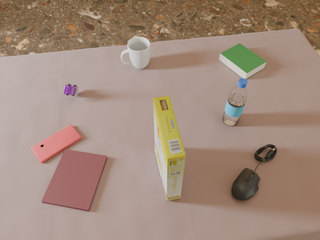book: (42, 149, 107, 211), (219, 43, 266, 79)
bottle: (223, 78, 247, 126)
box: (153, 96, 186, 200)
cup: (121, 37, 150, 69)
mouse: (232, 168, 260, 200)
phone: (32, 125, 82, 163)
toy_car: (64, 84, 78, 96)
